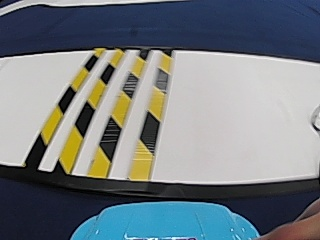bump: (30, 54, 175, 169)
